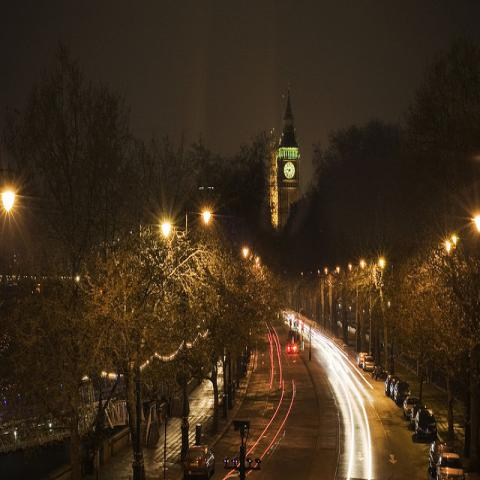car: (183, 445, 216, 479), (428, 441, 456, 478), (414, 407, 438, 441), (435, 452, 465, 479), (403, 396, 423, 420), (393, 380, 412, 404), (410, 406, 423, 427), (384, 376, 399, 394), (390, 378, 402, 398), (363, 355, 374, 372), (358, 352, 368, 368)
motorcycle: (372, 364, 386, 379)
